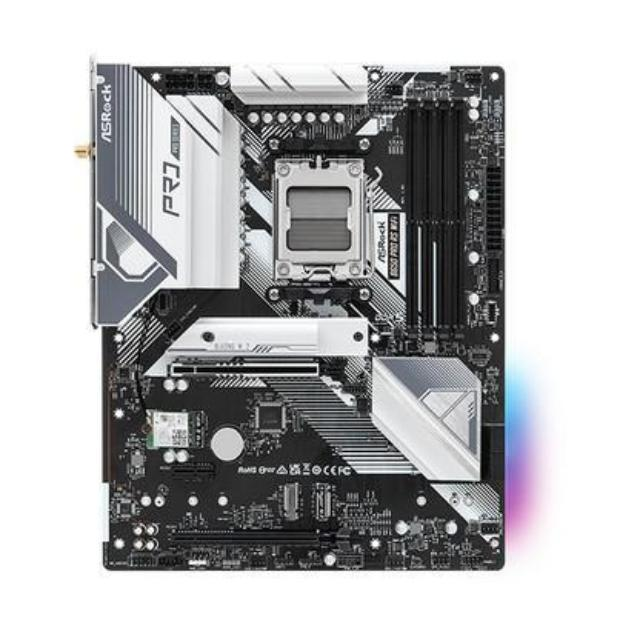Mainboard: (68, 50, 520, 575)
